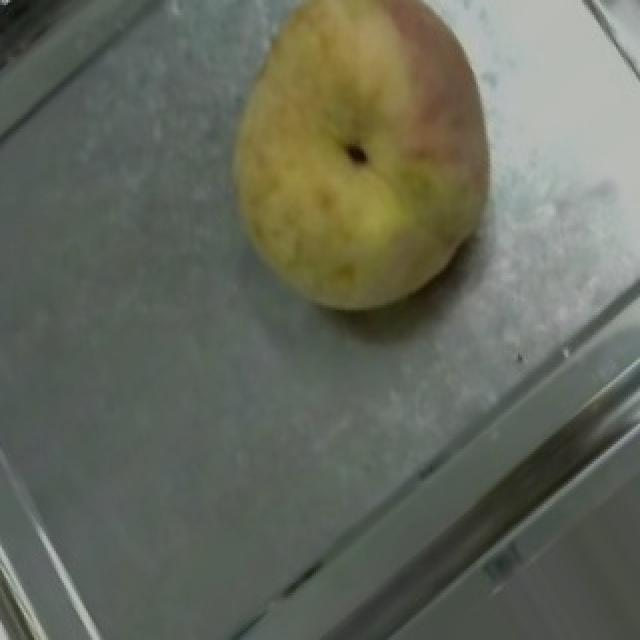Fruit: (180, 0, 498, 355)
